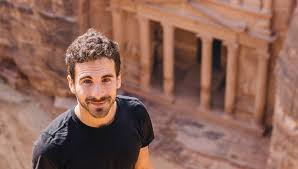middle_eastern_male: (74, 49, 125, 118)
